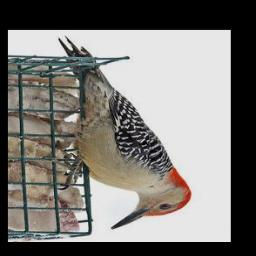Woodpecker: (57, 35, 192, 233)
